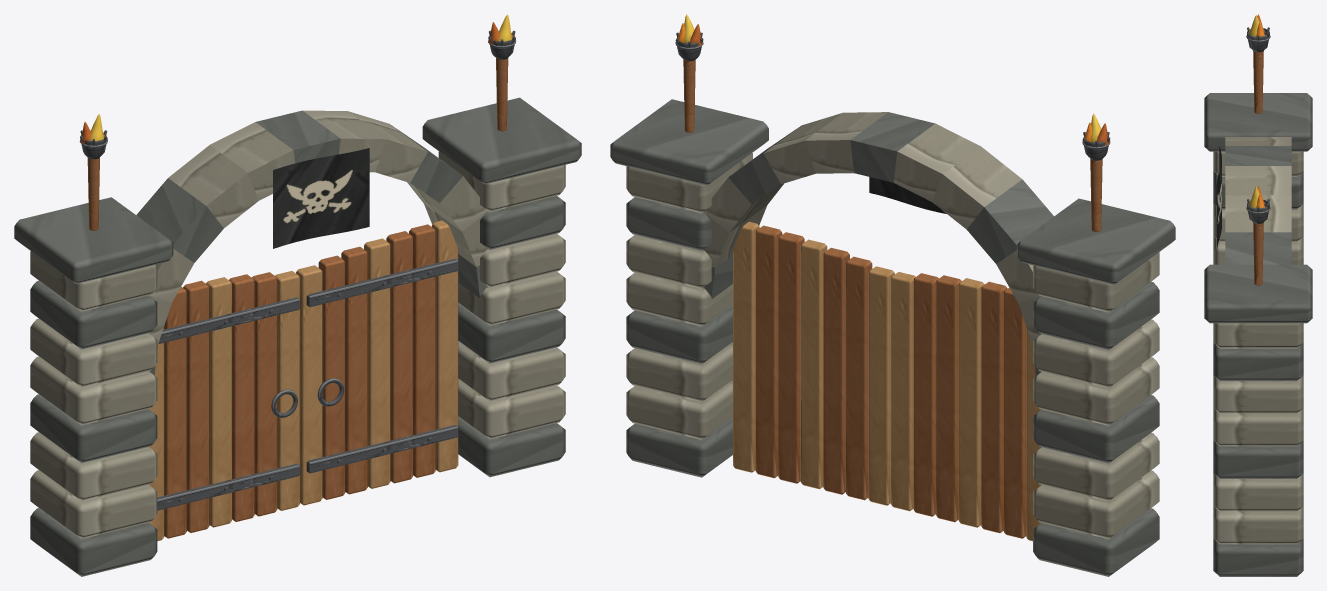
File: SM_StoneGate_Closed.glb
3 views of the same model, side by side, from view 1: azimuth 30°, elevation 25°; view 2: azimuth 150°, elevation 25°; view 3: azimuth 270°, elevation 25° (orthographic). The views are drawn at different scales.
Visible parts, largest first — view 1: SM_StoneGate_Closed; view 2: SM_StoneGate_Closed; view 3: SM_StoneGate_Closed.
Boxes of the visible parts, x1=… form: SM_StoneGate_Closed: x1=14, y1=14, x2=581, y2=576; SM_StoneGate_Closed: x1=610, y1=14, x2=1175, y2=576; SM_StoneGate_Closed: x1=1204, y1=14, x2=1312, y2=576.
Bounding box in the file's own units: 5.08 × 4.19 × 1.08.
1 material, 1 textured.
